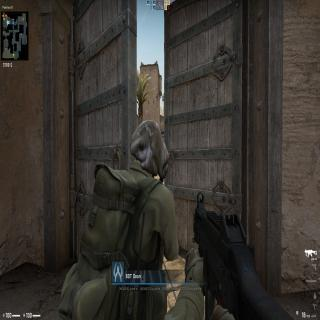CT-Head: (128, 114, 170, 181)
